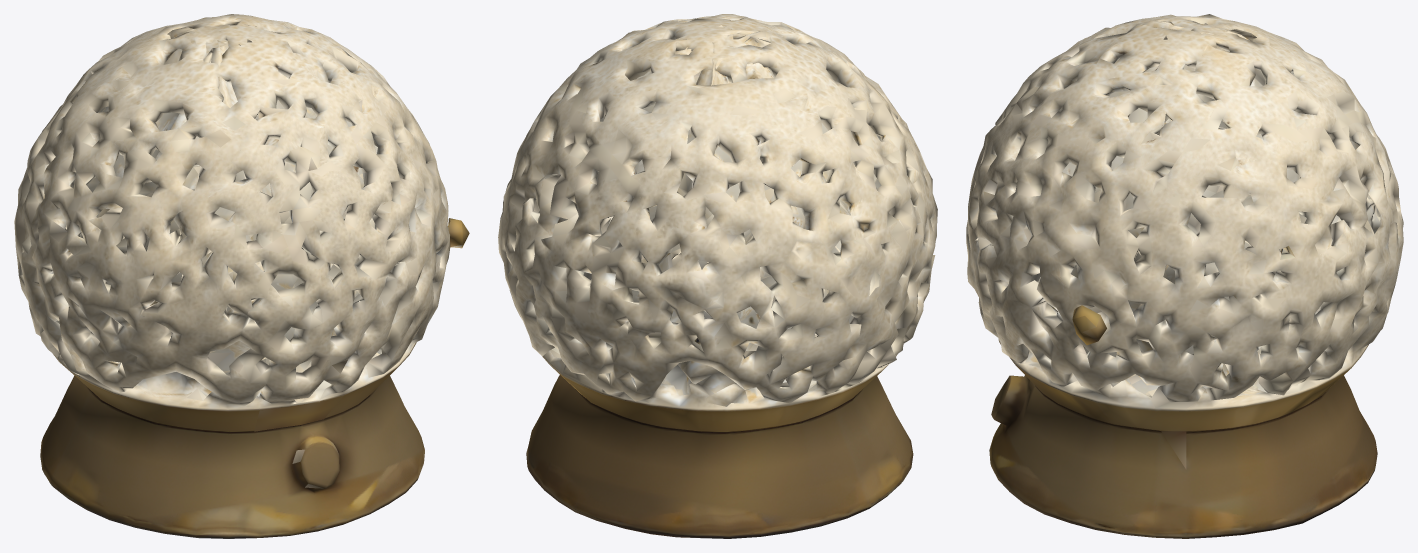
The model's file is Crystal_Globe_table_center_table hieght_0308230401_texture.glb.
3 views of the same model, side by side, from view 1: azimuth 30°, elevation 25°; view 2: azimuth 150°, elevation 25°; view 3: azimuth 270°, elevation 25° (orthographic).
Parts seen in each view (by area): view 1: Mesh_0.002; view 2: Mesh_0.002; view 3: Mesh_0.002.
Part boxes in pixels (<box>): Mesh_0.002: <box>14,14,469,538</box>; Mesh_0.002: <box>498,14,937,538</box>; Mesh_0.002: <box>966,14,1403,538</box>.
Size of the model in its own units: 0.1177 by 0.127 by 0.1174.
1 material, 1 textured.
